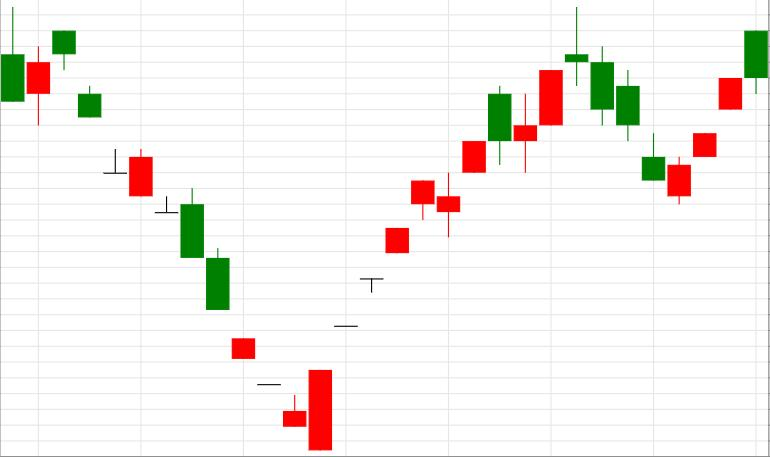evening_star_fall: (386, 7, 614, 254)
three_white_soldiers_rise: (565, 7, 742, 205)
